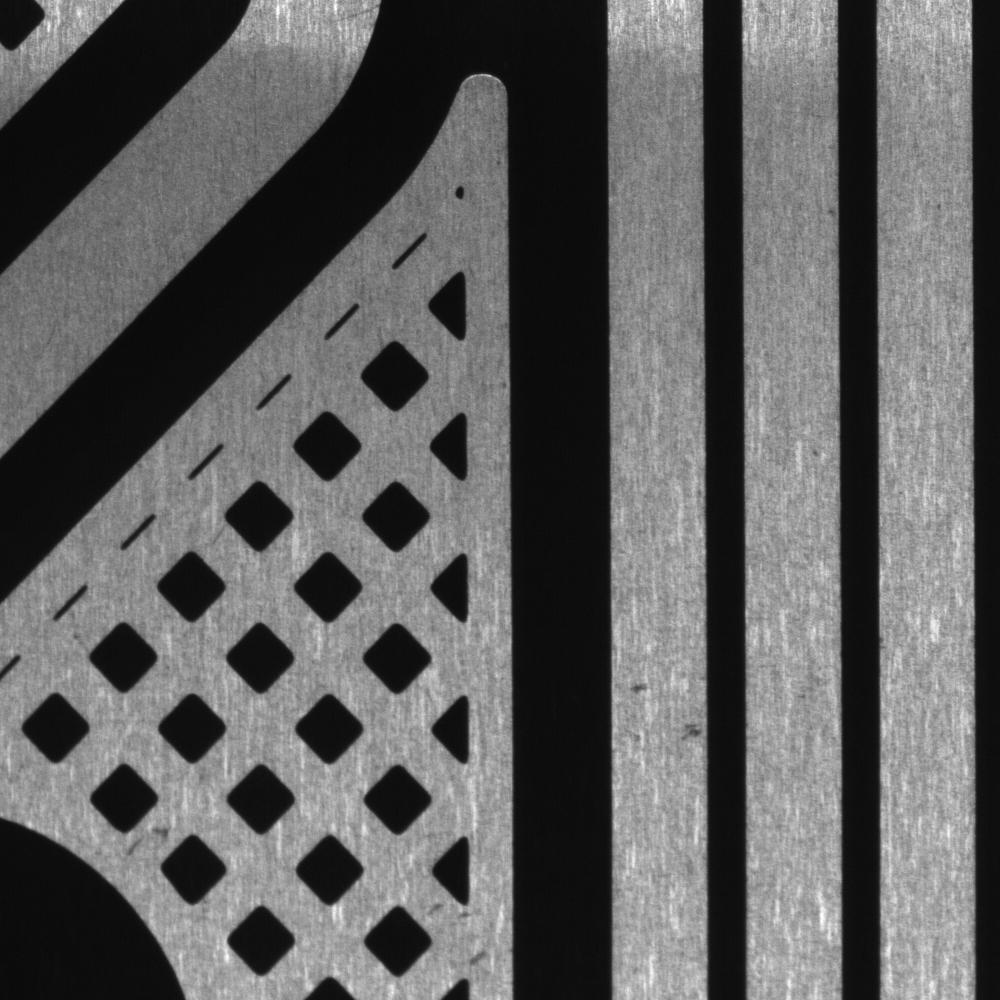Etching: (614, 660, 663, 703), (664, 715, 708, 754)
